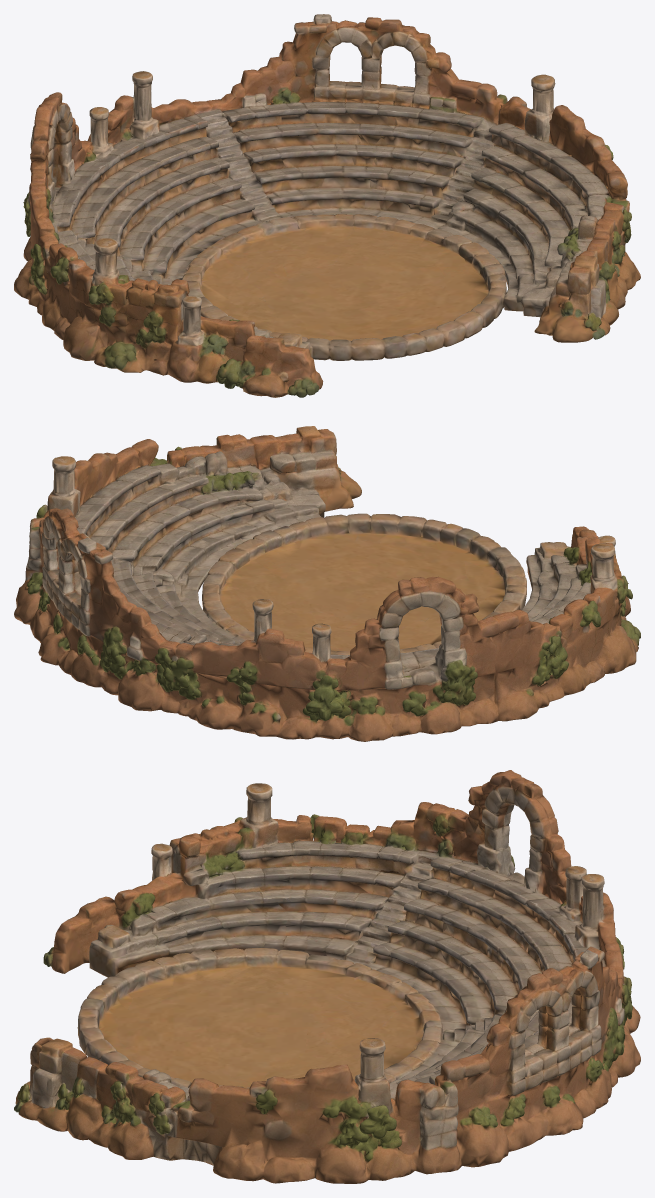
Rendered from kfb-stage-amphitheater-meshy.browser.v1-lod60k.glb.
3 views of the same model, one above another, from view 1: azimuth 30°, elevation 25°; view 2: azimuth 150°, elevation 25°; view 3: azimuth 270°, elevation 25° (orthographic). The views are drawn at different scales.
Bounding box in the file's own units: 1.9 × 0.4891 × 1.7.
1 material, 1 textured.
